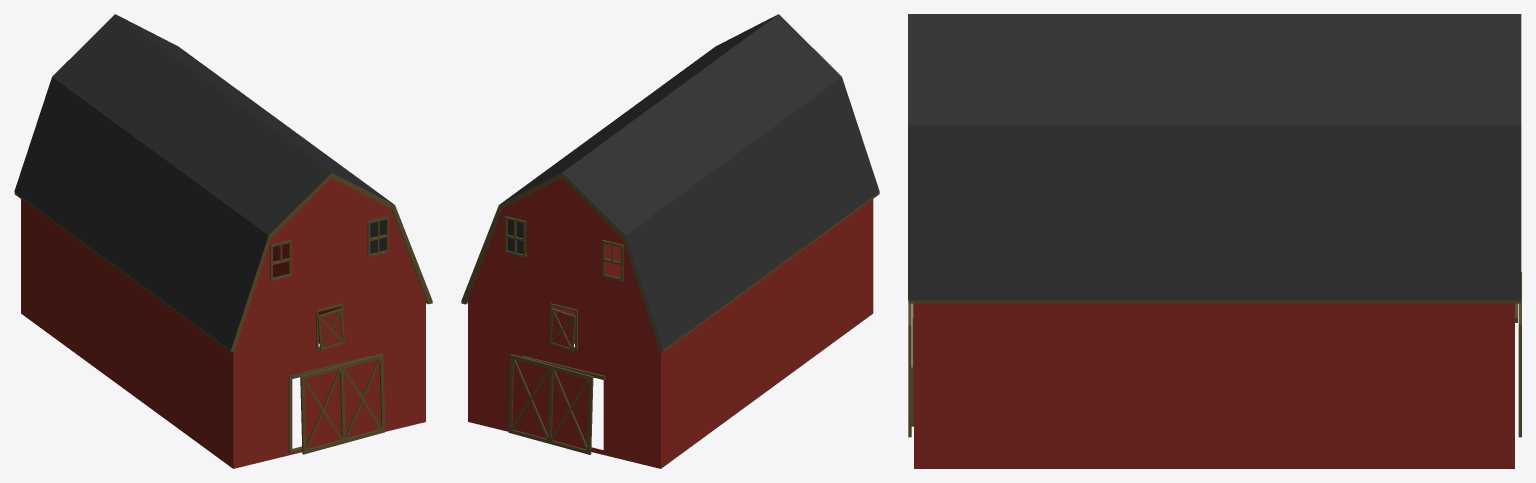
File: Barn.fbx
3 views of the same model, side by side, from view 1: azimuth 30°, elevation 25°; view 2: azimuth 150°, elevation 25°; view 3: azimuth 270°, elevation 25° (orthographic). The views are drawn at different scales.
Visible parts, largest first — view 1: Barn_geo; view 2: Barn_geo; view 3: Barn_geo.
Part boxes in pixels (x1,y1,x2,y2): Barn_geo: [14, 14, 432, 468]; Barn_geo: [461, 14, 879, 468]; Barn_geo: [908, 14, 1521, 468].
Bounding box in the file's own units: 27.93 × 36.43 × 52.01.
